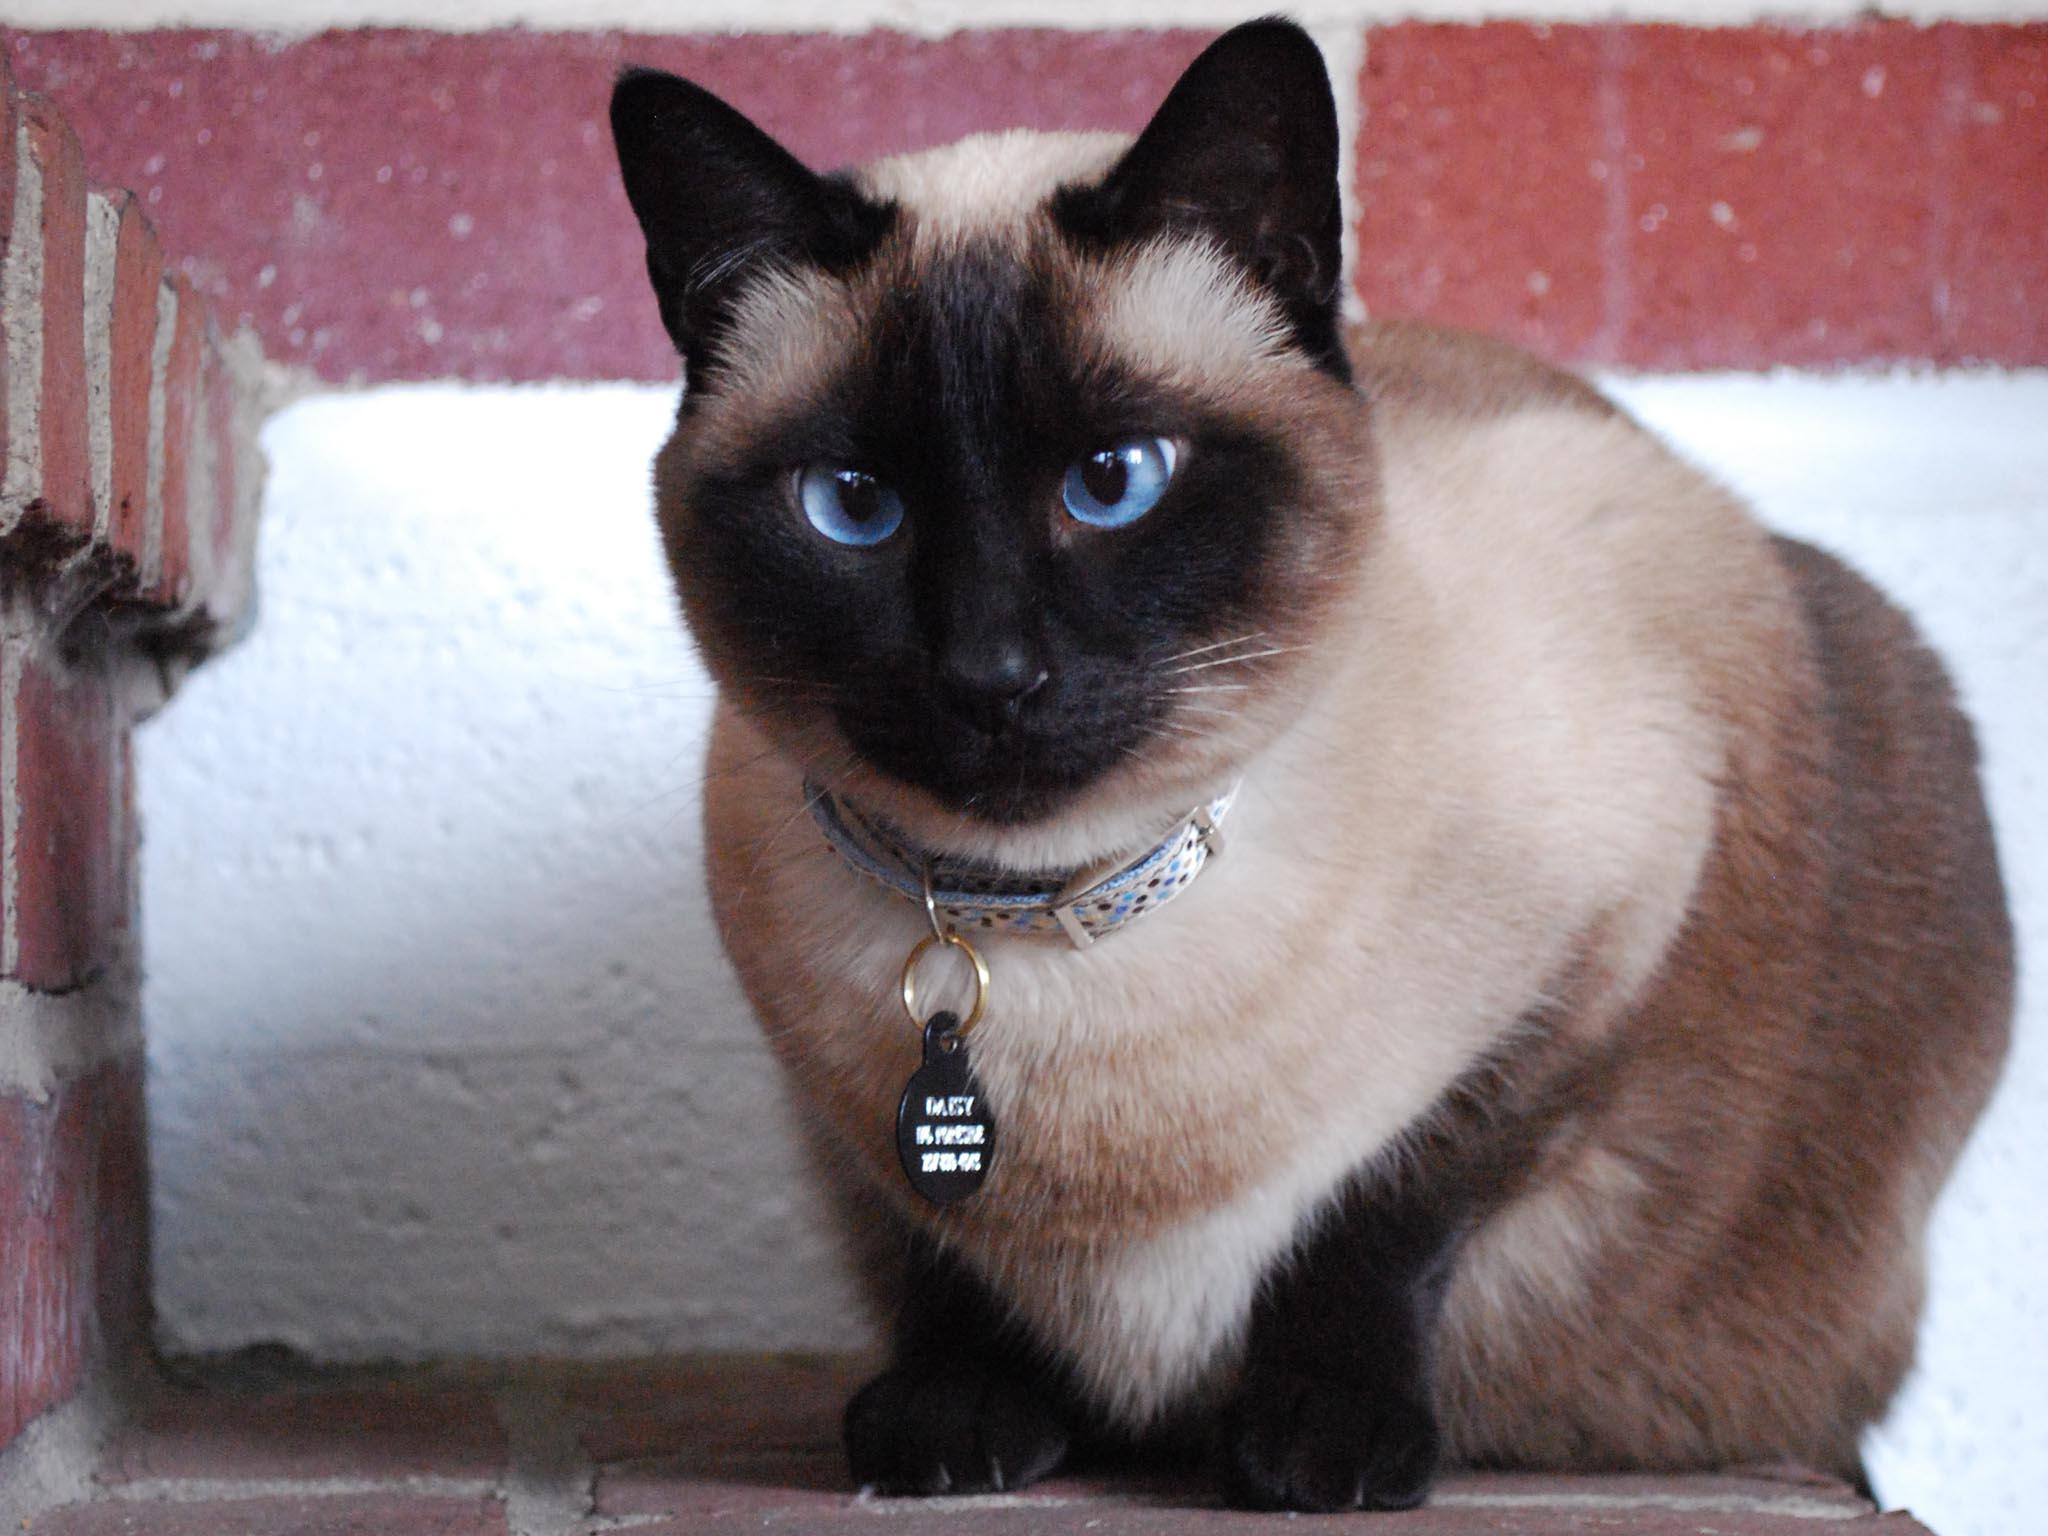siamese: (571, 15, 1371, 854)
